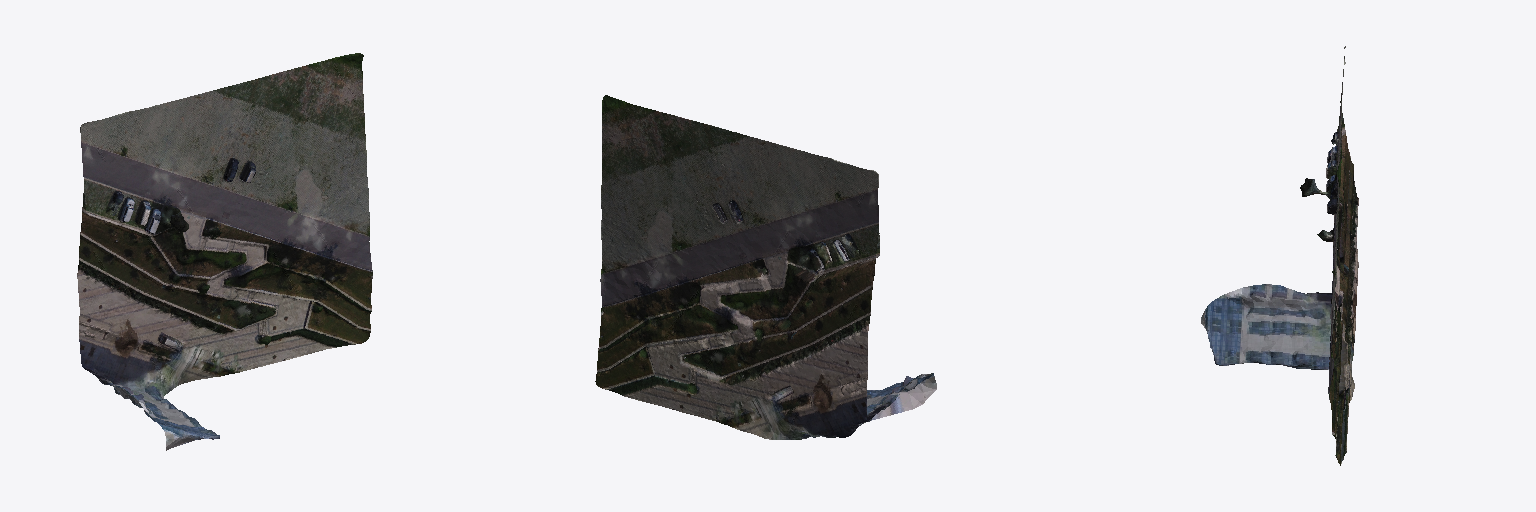
3 views of the same model, side by side, from view 1: azimuth 30°, elevation 25°; view 2: azimuth 150°, elevation 25°; view 3: azimuth 270°, elevation 25° (orthographic).
Parts seen in each view (by area): view 1: Mesh; view 2: Mesh; view 3: Mesh.
Boxes of the visible parts, <box> form: Mesh: <box>77,53,372,450</box>; Mesh: <box>595,95,936,439</box>; Mesh: <box>1201,46,1358,465</box>.
Size of the model in its own units: 61.57 by 61.52 by 29.37.
1 materials, 1 textured.